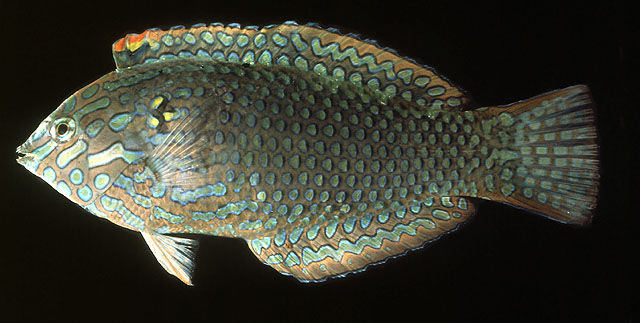fish: (13, 20, 599, 287)
